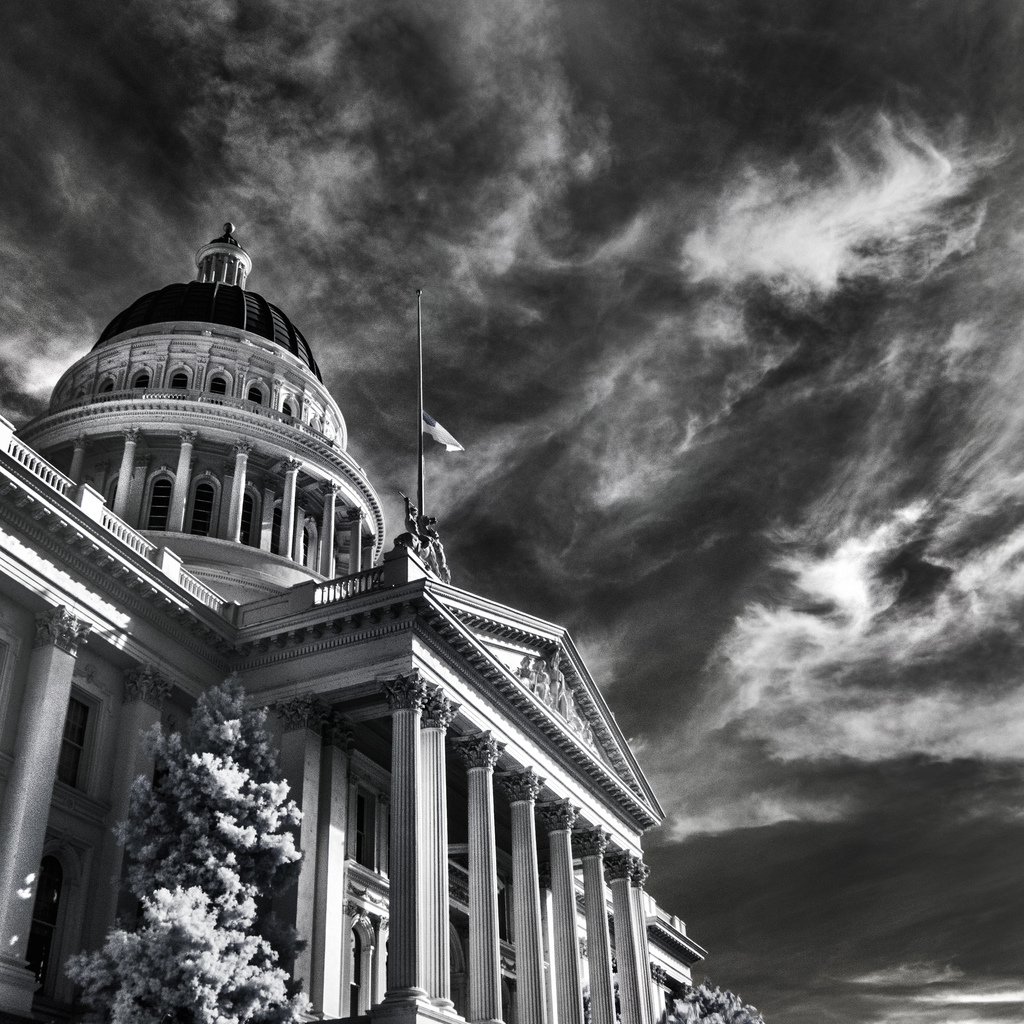Tree: (51, 666, 318, 1023), (652, 981, 756, 1023)
